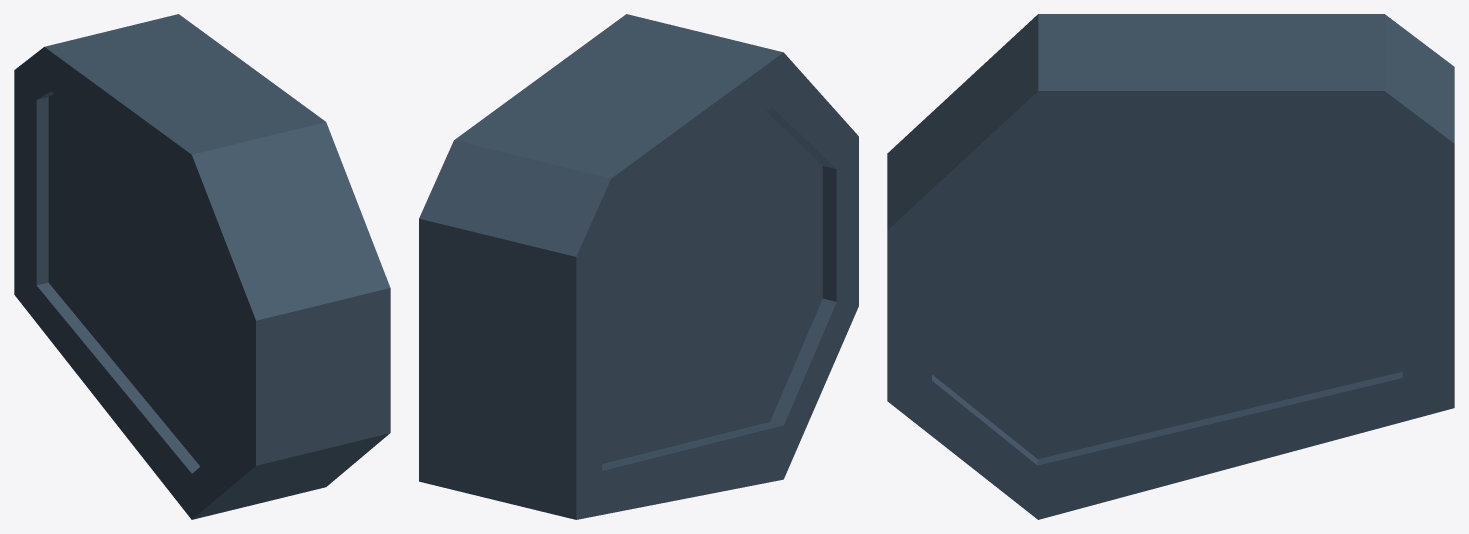
File: Adam_Arm.fbx
3 views of the same model, side by side, from view 1: azimuth 30°, elevation 25°; view 2: azimuth 150°, elevation 25°; view 3: azimuth 270°, elevation 25° (orthographic). The views are drawn at different scales.
Parts seen in each view (by area): view 1: Anarm.001; view 2: Anarm.001; view 3: Anarm.001.
Part boxes in pixels (x1=…): Anarm.001: x1=14, y1=14, x2=390, y2=519; Anarm.001: x1=419, y1=14, x2=858, y2=519; Anarm.001: x1=887, y1=14, x2=1454, y2=519.
Size of the model in its own units: 33.86 by 87.89 by 105.
